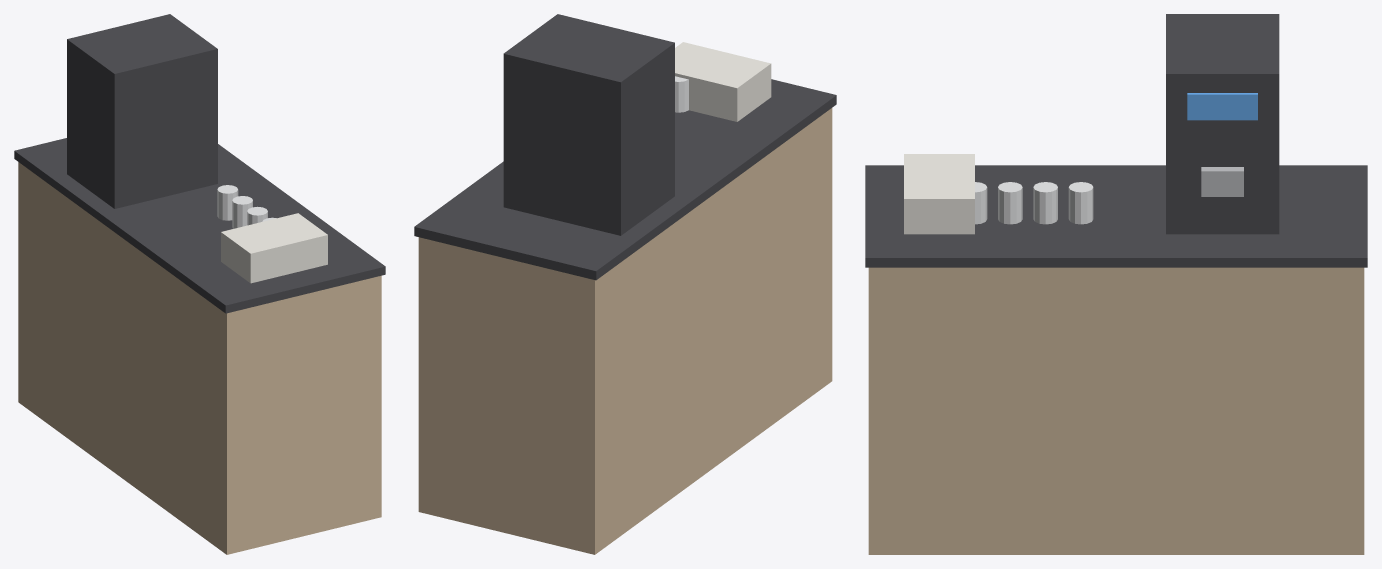
The model's file is SM_Prop_CoffeeMachine.glb.
3 renders of one model, left to right at view 1: azimuth 30°, elevation 25°; view 2: azimuth 150°, elevation 25°; view 3: azimuth 270°, elevation 25°, orthographic. The views are drawn at different scales.
Parts seen in each view (by area): view 1: SM_Prop_CoffeeMachine; view 2: SM_Prop_CoffeeMachine; view 3: SM_Prop_CoffeeMachine.
Part boxes in pixels (bbox=[...]): SM_Prop_CoffeeMachine: bbox=[14, 14, 385, 554]; SM_Prop_CoffeeMachine: bbox=[414, 14, 836, 554]; SM_Prop_CoffeeMachine: bbox=[865, 14, 1367, 554].
Size of the model in its own units: 0.62 by 1.43 by 1.42.
